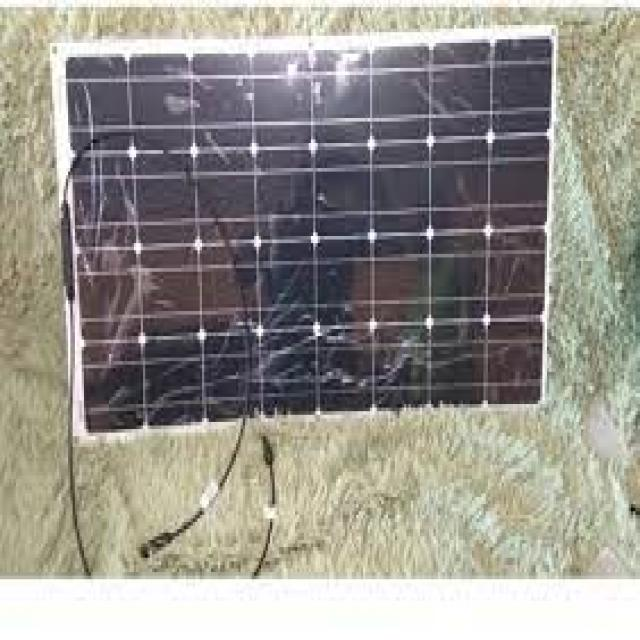faulty: (66, 56, 545, 407)
